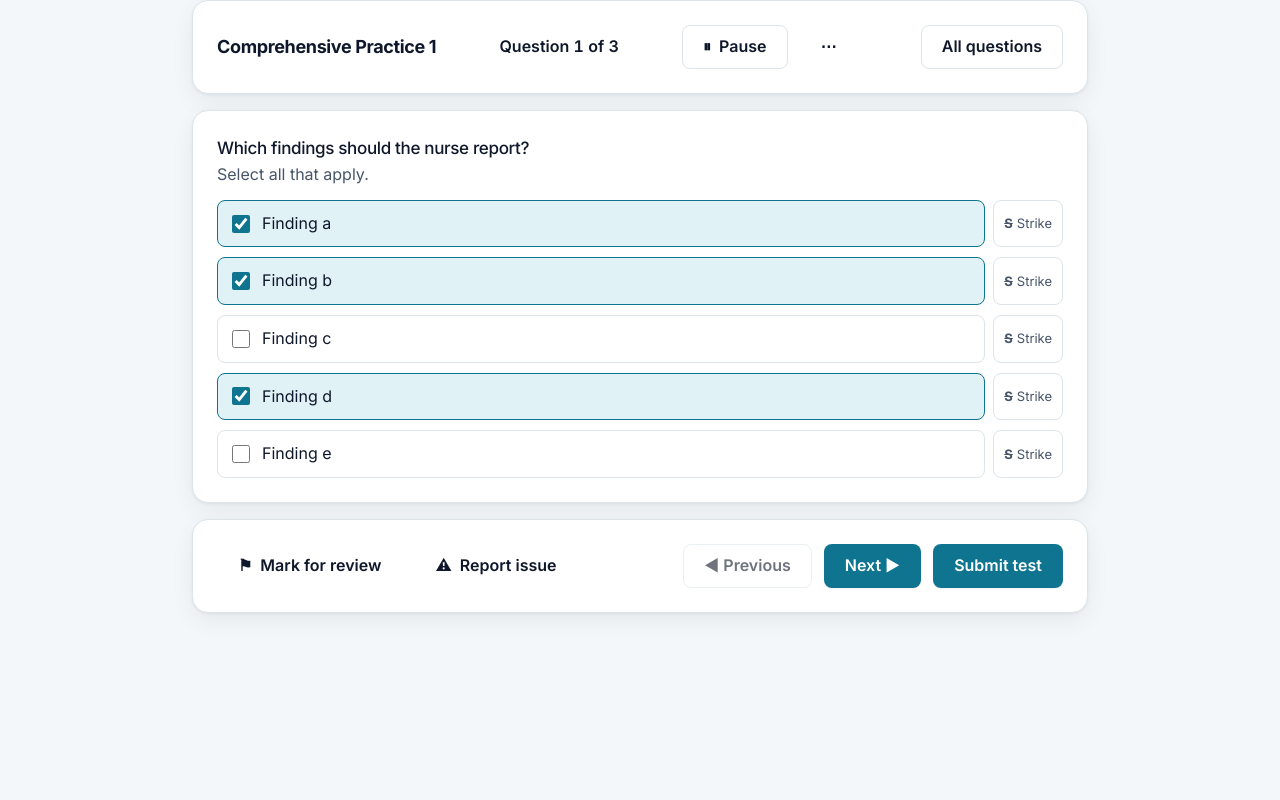
Test: AttemptPlayer submitting › asks for confirmation with the unanswered and flagged counts before submitting
The image size is (1280, 800).
Expected: the heading "Which findings should the nurse report?" is shown, left=217, top=138, right=529, bottom=158
Click the button "Submit test".
click(998, 566)  # box left=933, top=544, right=1063, bottom=588
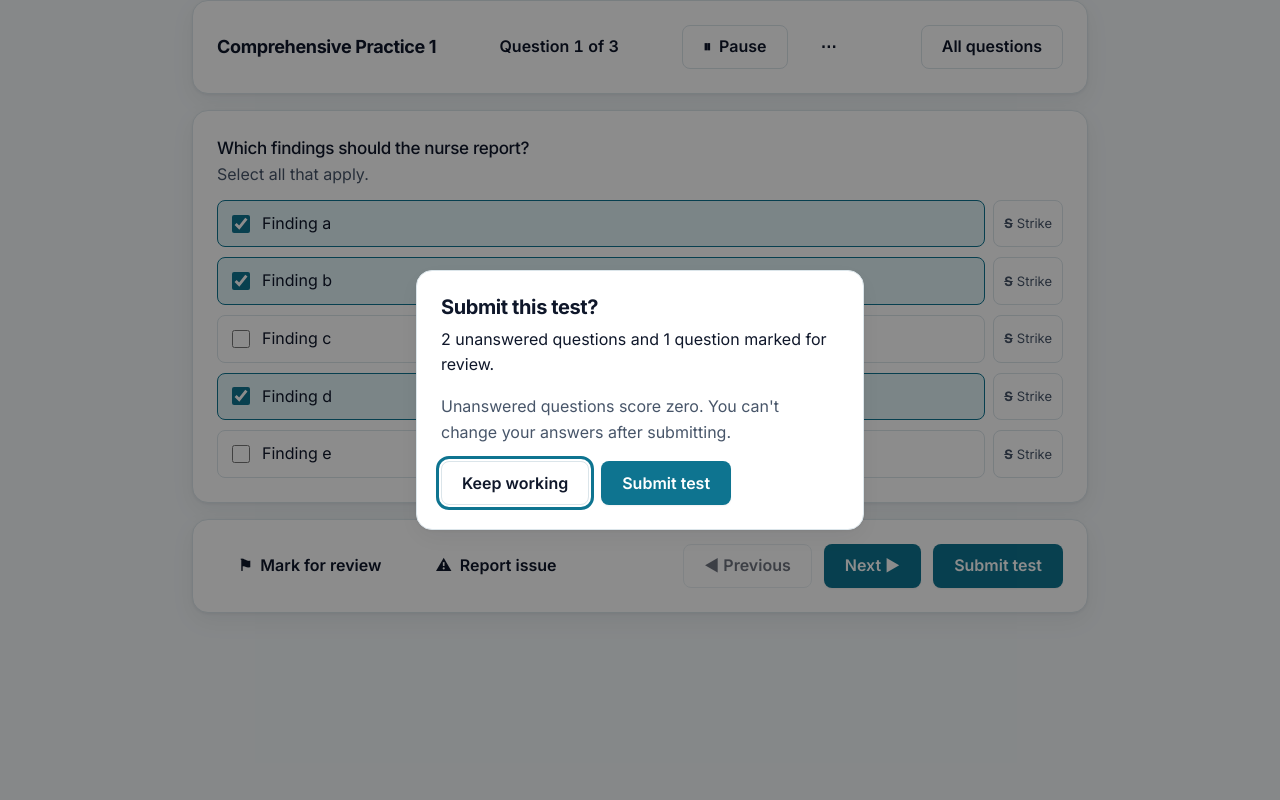
Expected: the dialog "Submit this test?" shows "2 unanswered questions and 1 question marked for review.", left=416, top=270, right=864, bottom=530
